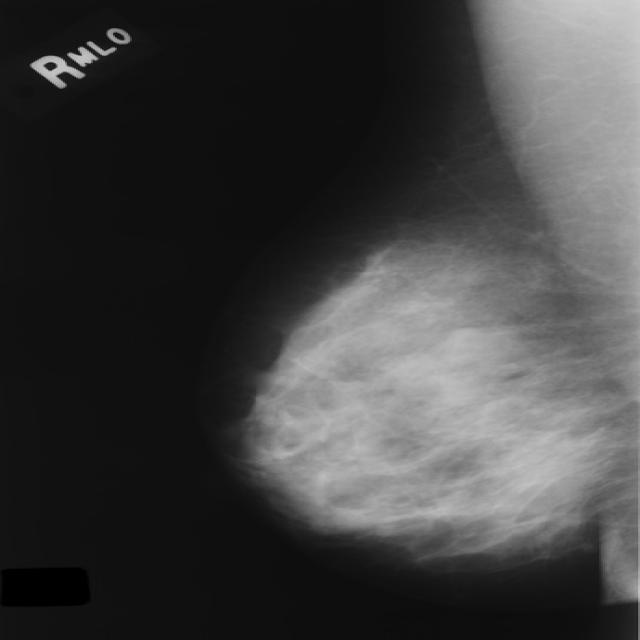tumour: (444, 325, 520, 357)
